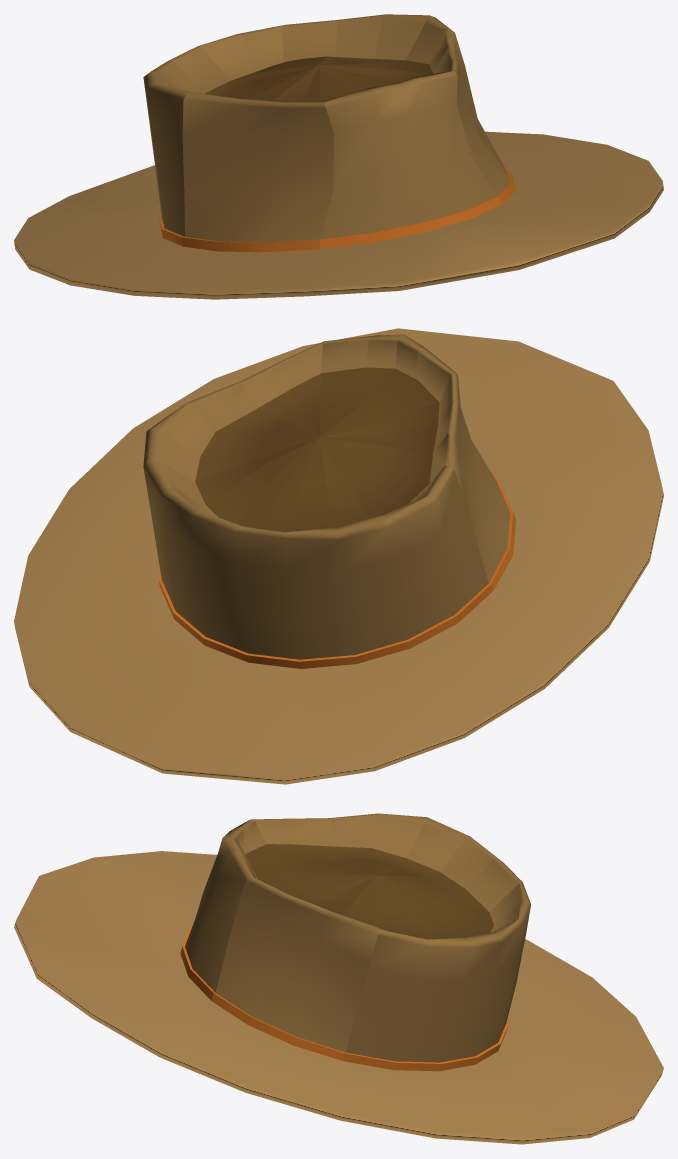
File: frontmanHat.fbx
3 views of the same model, one above another, from view 1: azimuth 30°, elevation 25°; view 2: azimuth 150°, elevation 25°; view 3: azimuth 270°, elevation 25° (orthographic). The views are drawn at different scales.
Visible parts, largest first — view 1: hat; view 2: hat; view 3: hat.
Boxes of the visible parts, box(x1,y1,x2,y2) form: hat: box(14, 14, 663, 299); hat: box(14, 328, 663, 784); hat: box(14, 813, 663, 1144).
Size of the model in its own units: 45.41 by 21.16 by 52.33.
